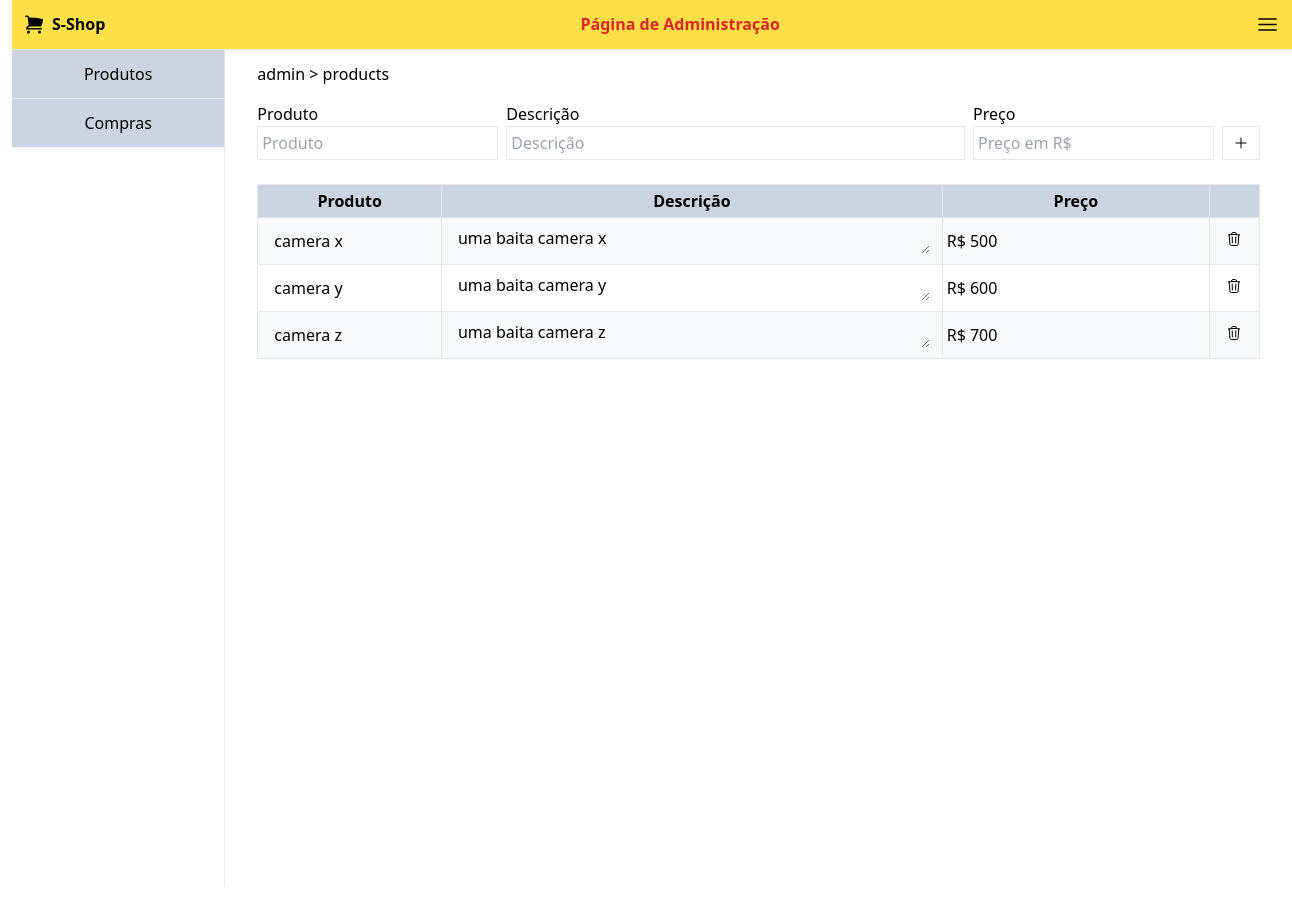
Test: check if order has been placed
This screenshot has width=1292, height=900.
Click the button "Compras" at (118, 123), box [12,99,224,147]
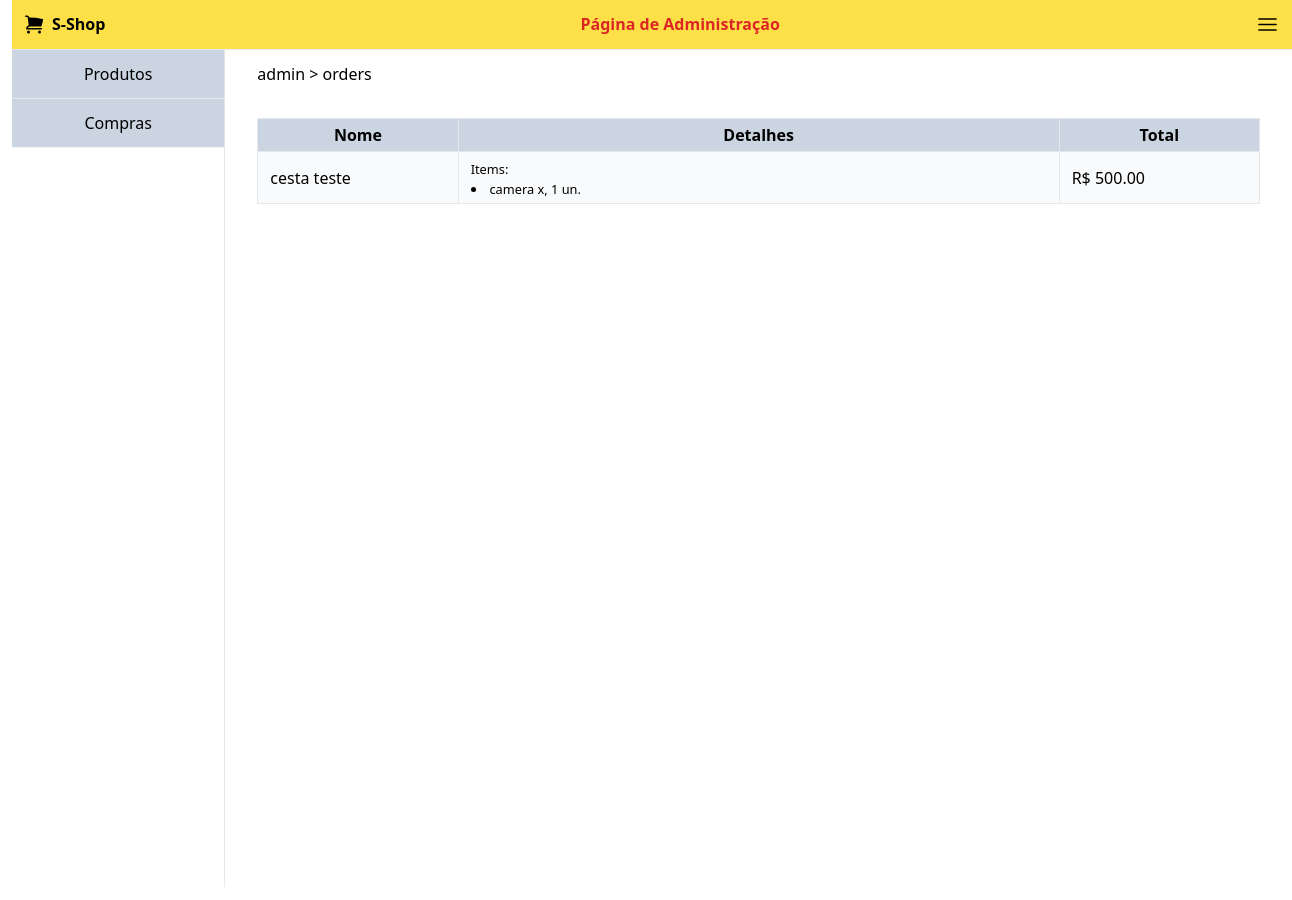
Now the text "cesta teste" is shown, box [258,152,458,204]
